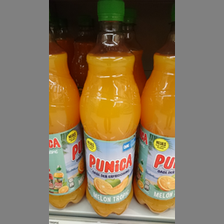juice: (79, 2, 141, 218), (135, 21, 173, 214), (50, 30, 81, 208)
